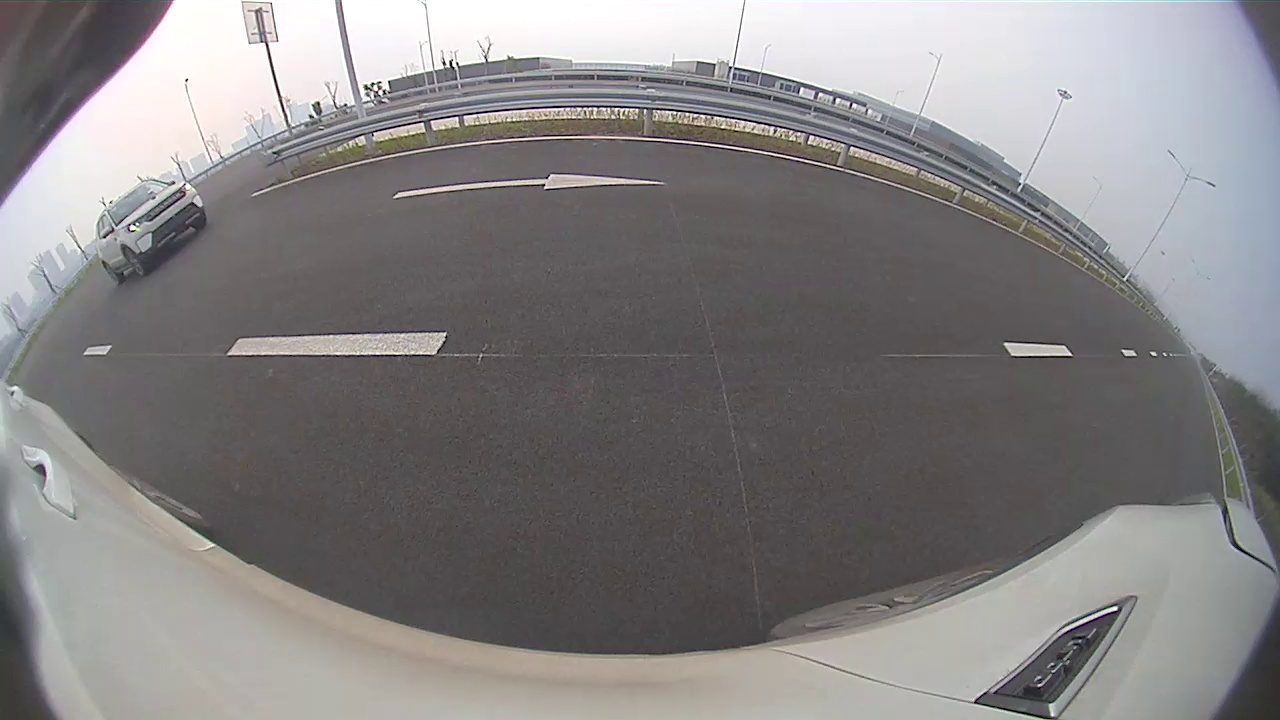car: (96, 179, 206, 284)
front: (121, 247, 147, 280)
